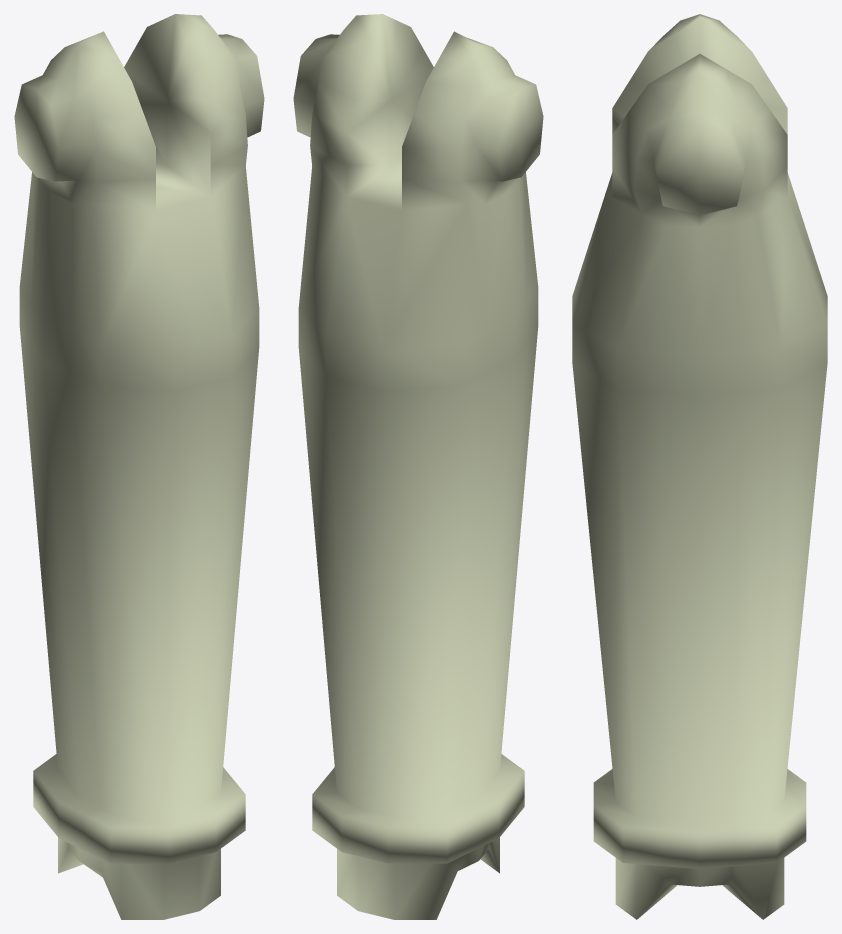
The model's file is anime_robot_lower_arm.dae.
3 renders of one model, left to right at view 1: azimuth 30°, elevation 25°; view 2: azimuth 150°, elevation 25°; view 3: azimuth 270°, elevation 25°, orthographic.
Parts seen in each view (by area): view 1: Cube12_copy14-0; view 2: Cube12_copy14-0; view 3: Cube12_copy14-0.
Boxes of the visible parts, box(x1,y1,x2,y2) form: Cube12_copy14-0: box(14, 14, 264, 919); Cube12_copy14-0: box(293, 14, 543, 919); Cube12_copy14-0: box(572, 14, 827, 919).
Bounding box in the file's own units: 0.489 × 1.96 × 0.5263.
